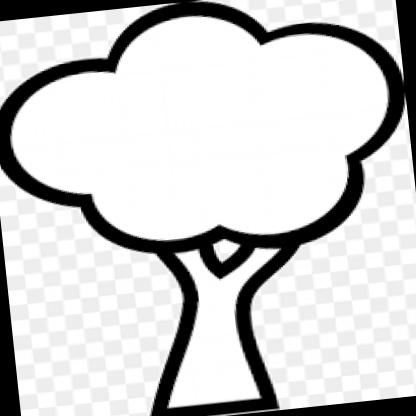crown_cloud: (0, 0, 416, 276)
trunk_reflex: (128, 298, 287, 406)
